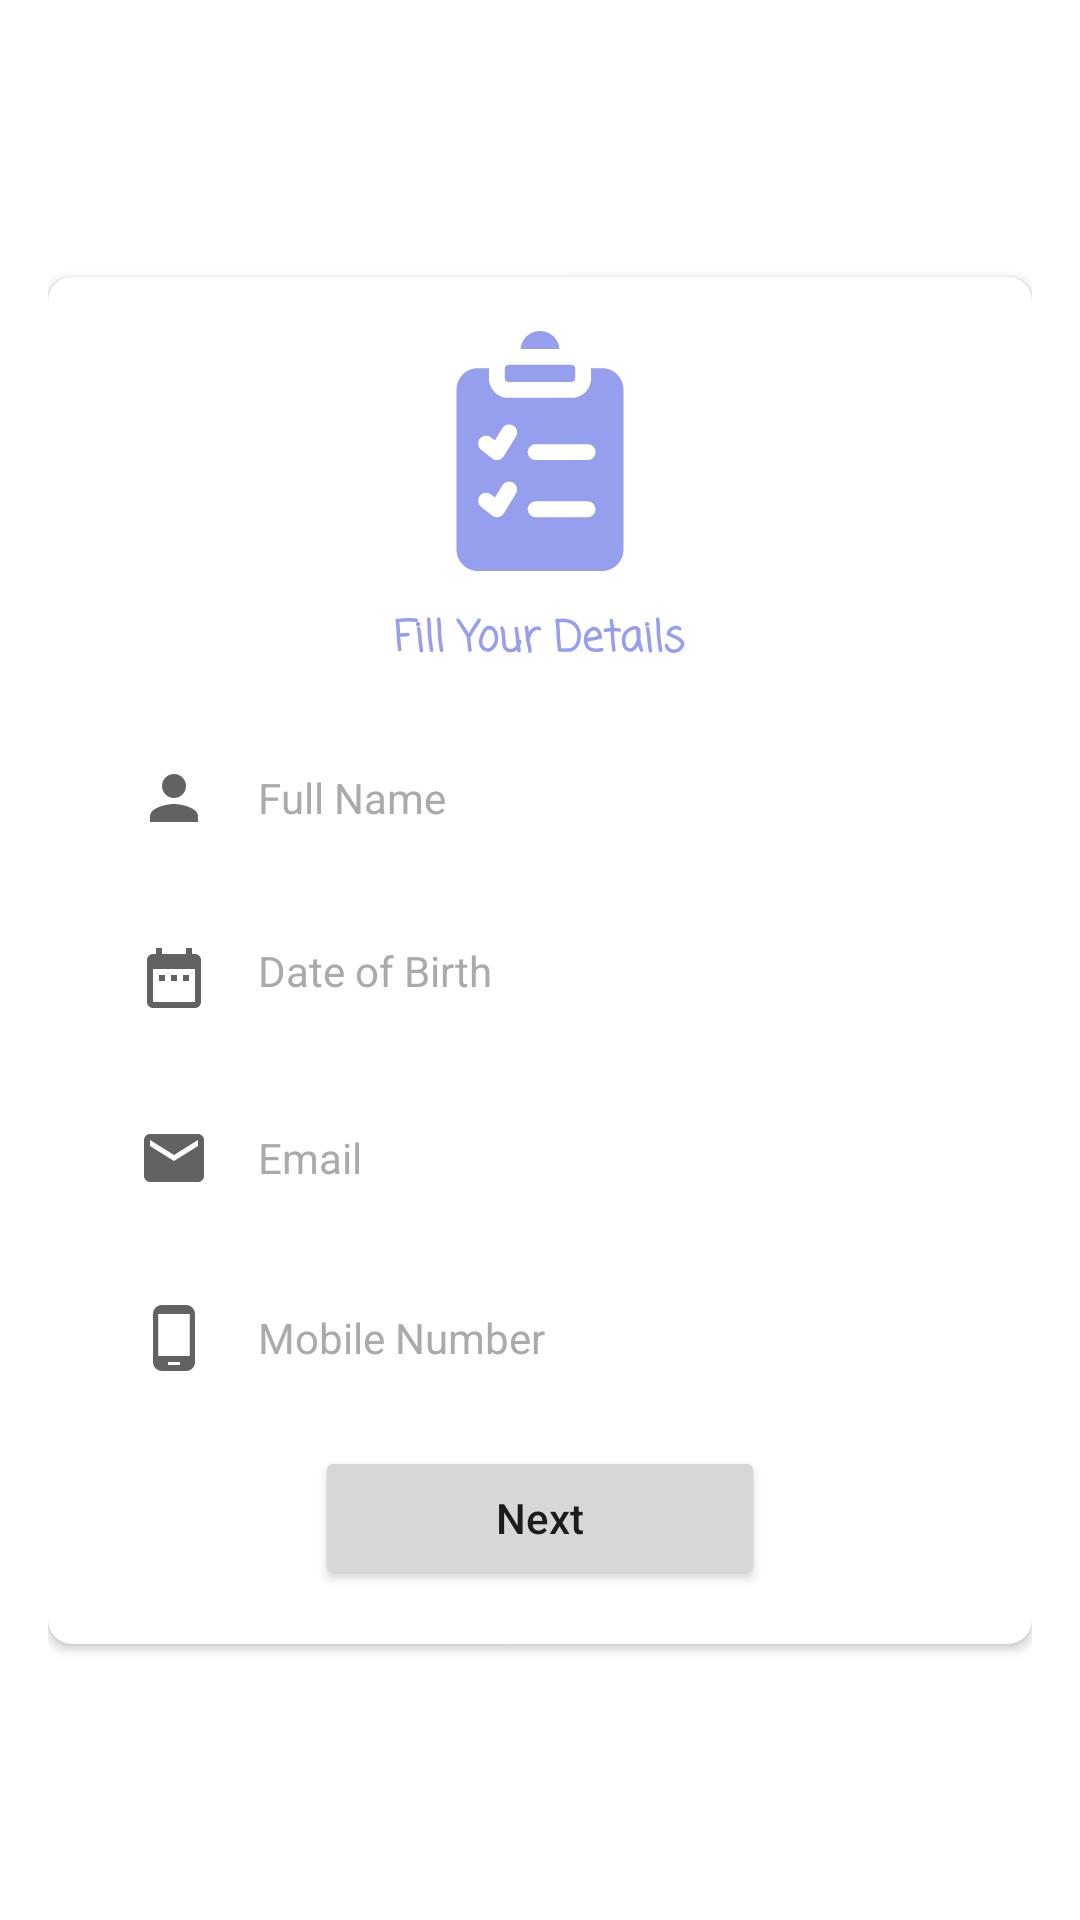

Icons on this 1080*1920 Android screen, each with its box as Rect(x1, y1, x2, y2):
form: Rect(456, 331, 624, 571)
